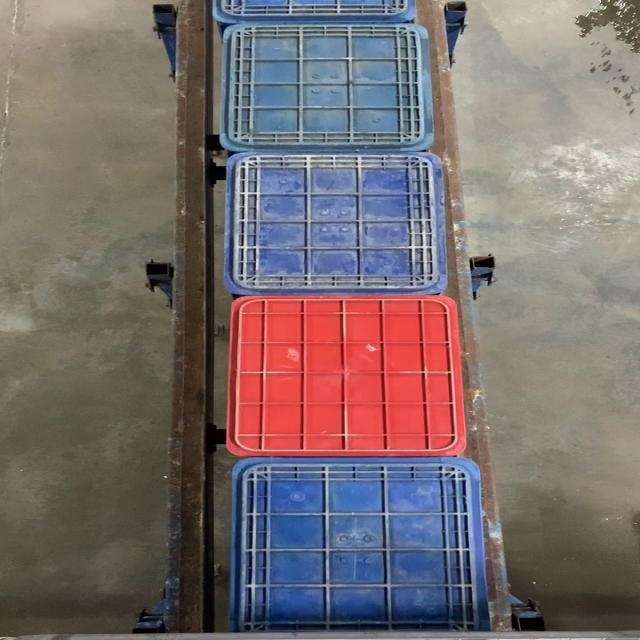Box: (224, 296, 472, 456), (219, 154, 456, 294), (219, 23, 439, 153)
